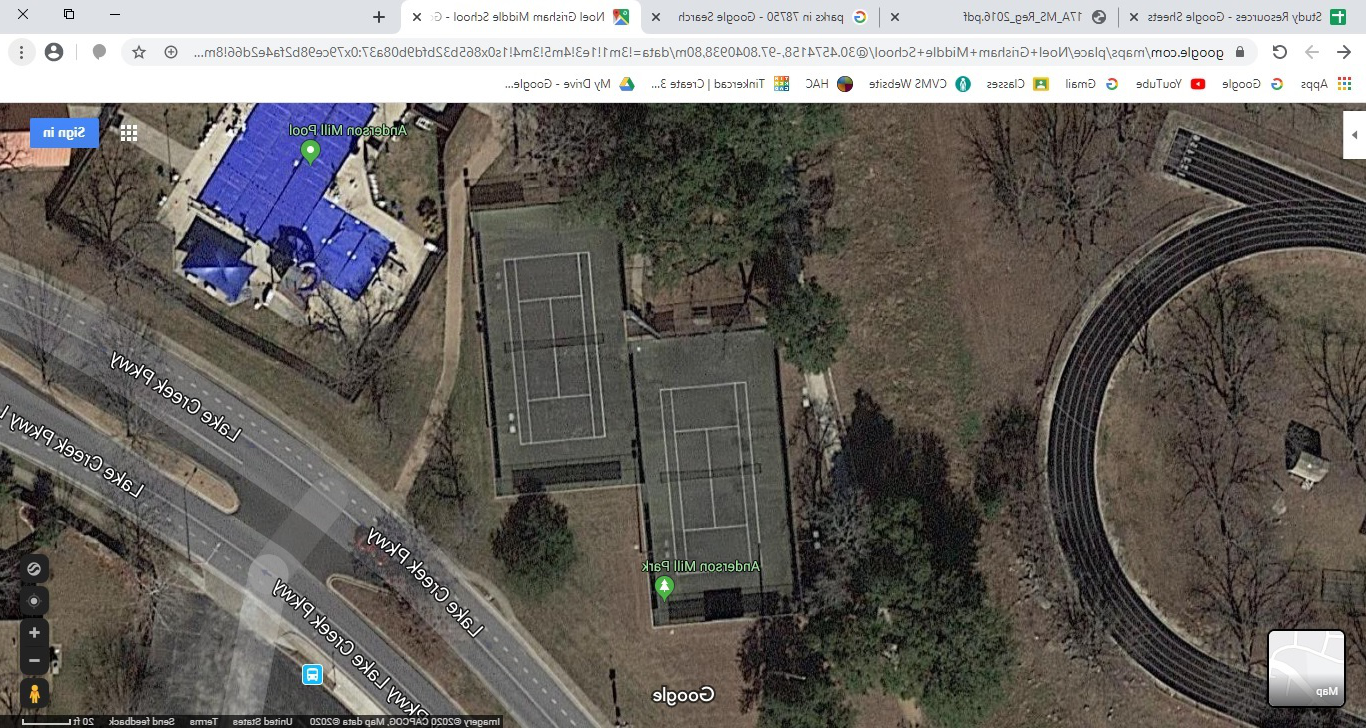pool: (146, 116, 410, 326)
tennis: (452, 192, 614, 534), (628, 326, 810, 626)
